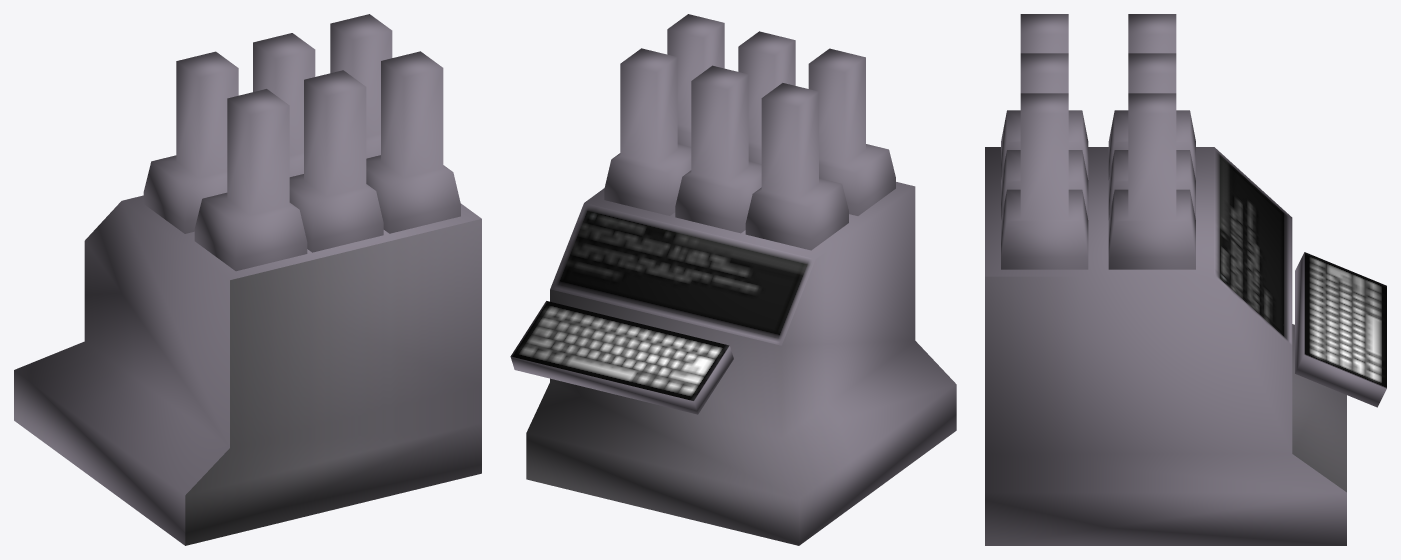
Rendered from JammerPickupObject.fbx.
3 renders of one model, left to right at view 1: azimuth 30°, elevation 25°; view 2: azimuth 150°, elevation 25°; view 3: azimuth 270°, elevation 25°, orthographic. The views are drawn at different scales.
Parts seen in each view (by area): view 1: JammerPickupObject; view 2: JammerPickupObject; view 3: JammerPickupObject.
Part boxes in pixels (x1,y1,x2,y2): JammerPickupObject: (14, 14, 481, 545); JammerPickupObject: (510, 14, 956, 545); JammerPickupObject: (985, 14, 1386, 545).
Size of the model in its own units: 1.08 by 1.38 by 1.2.
1 material, 1 textured.
